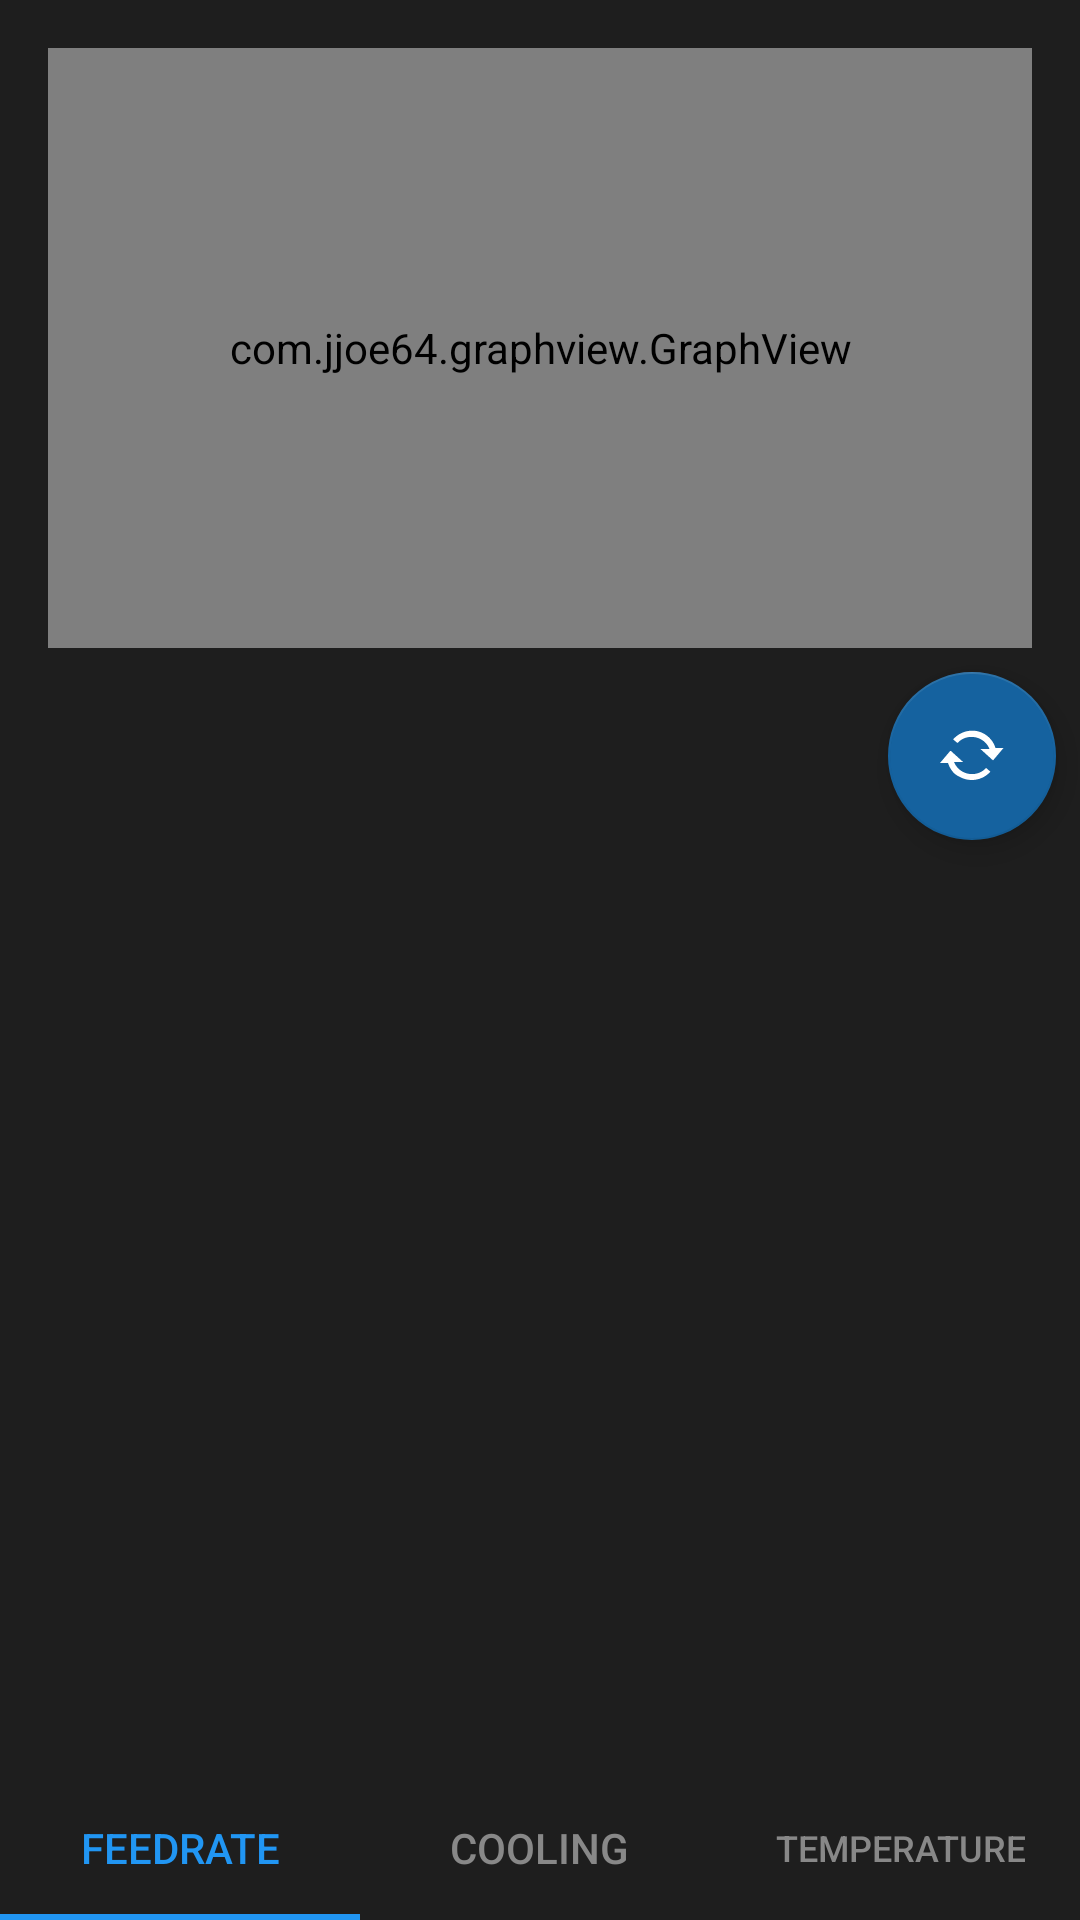

Screen size 1080×1920. Icon name, then its box in pixels as (left=x1, top=y1, right=x2, bottom=y2):
sync: (left=888, top=672, right=1056, bottom=840)
